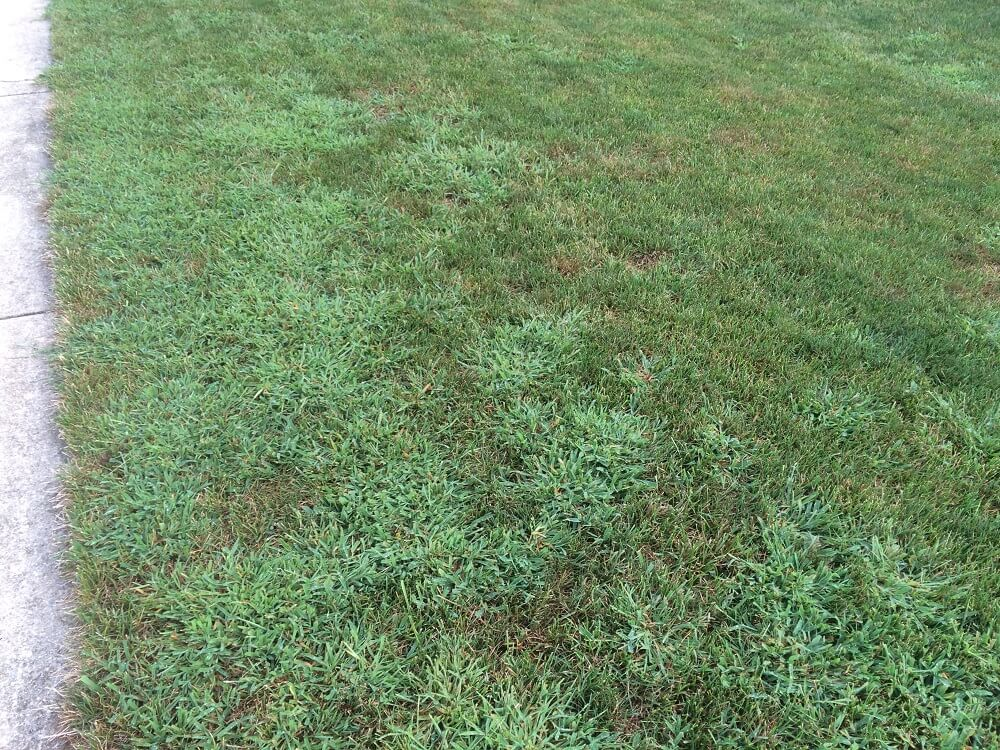crabgrass: (491, 350, 689, 533), (710, 484, 887, 687), (199, 229, 373, 385), (338, 445, 479, 626), (157, 546, 329, 682), (387, 104, 514, 226)
